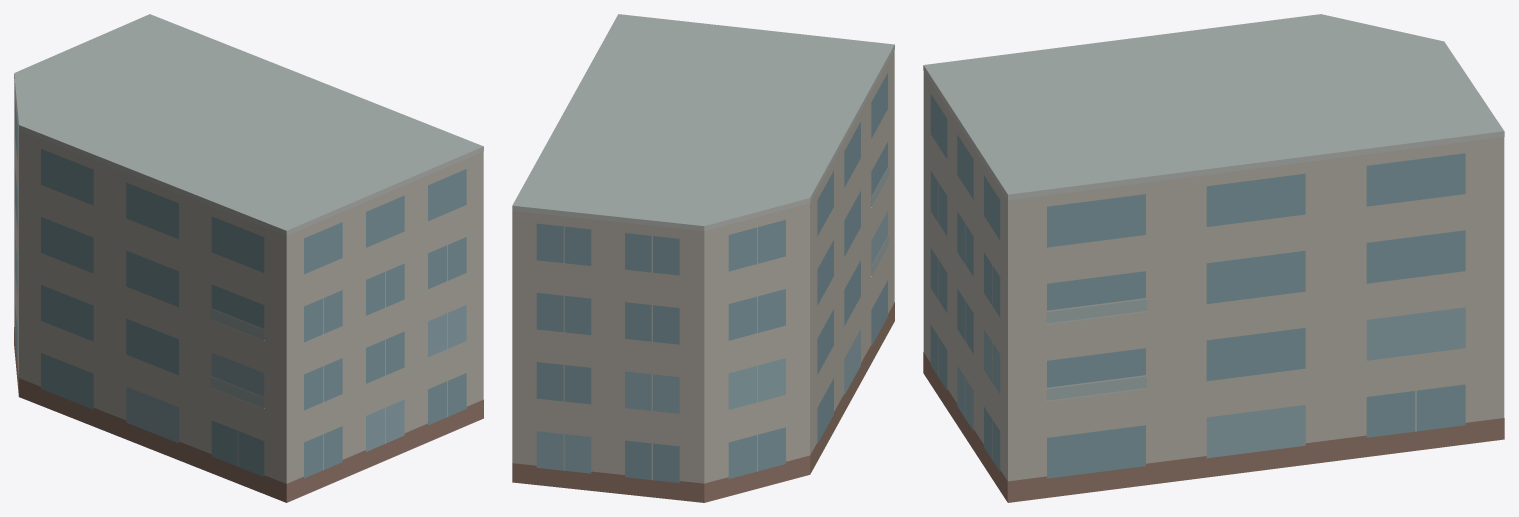
File: survey-upis-32622677.glb
3 views of the same model, side by side, from view 1: azimuth 30°, elevation 25°; view 2: azimuth 150°, elevation 25°; view 3: azimuth 270°, elevation 25° (orthographic). The views are drawn at different scales.
Parts seen in each view (by area): view 1: survey-upis-32622677.tmp; view 2: survey-upis-32622677.tmp; view 3: survey-upis-32622677.tmp.
Part boxes in pixels (bbox=[...]): survey-upis-32622677.tmp: bbox=[14, 14, 483, 502]; survey-upis-32622677.tmp: bbox=[512, 14, 894, 502]; survey-upis-32622677.tmp: bbox=[923, 14, 1504, 502].
Size of the model in its own units: 16.6 by 13.2 by 22.56.
